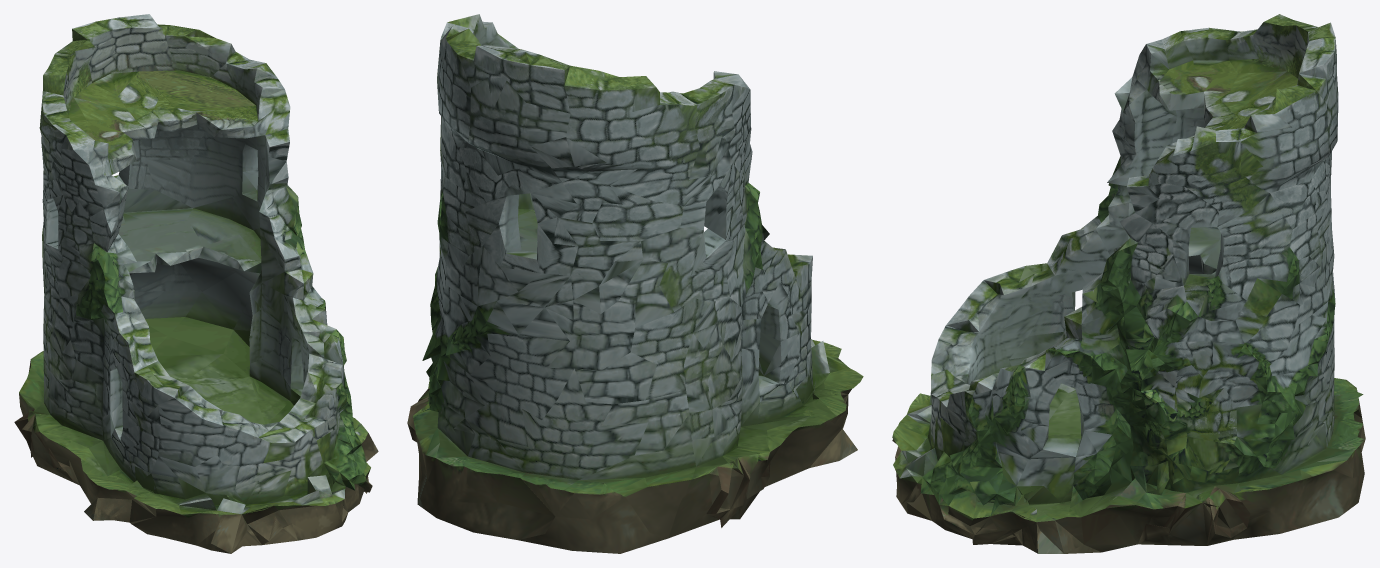
The picture shows the model from 3 angles, left to right: view 1: azimuth 30°, elevation 25°; view 2: azimuth 150°, elevation 25°; view 3: azimuth 270°, elevation 25°; orthographic projection. The views are drawn at different scales.
Visible parts, largest first — view 1: ruined_watchtower; view 2: ruined_watchtower; view 3: ruined_watchtower.
Part boxes in pixels (left/top/right/bottom): ruined_watchtower: left=14, top=14, right=378, bottom=553; ruined_watchtower: left=407, top=14, right=863, bottom=553; ruined_watchtower: left=892, top=14, right=1365, bottom=553.
Size of the model in its own units: 0.745 by 0.9739 by 0.9252.
Materials: 1 (1 with a texture image).
